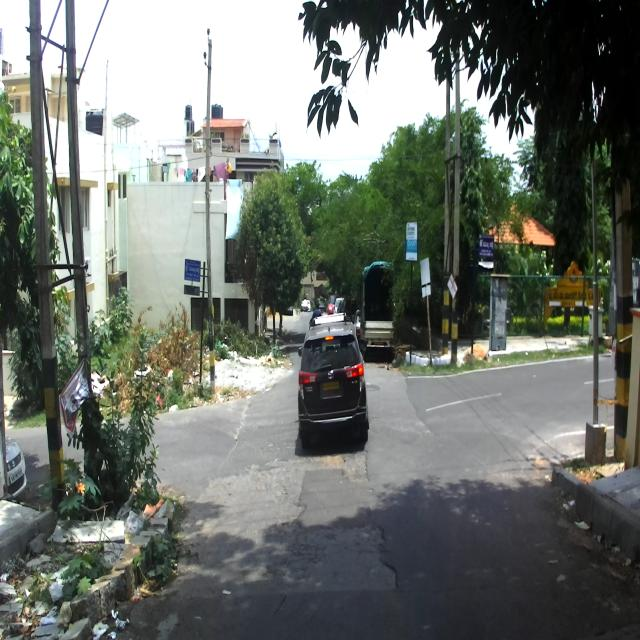car ahead at: (299, 323, 372, 448)
electric pole ahead at: (20, 0, 108, 507), (196, 24, 222, 394)
plant ahead at: (68, 384, 161, 526)
